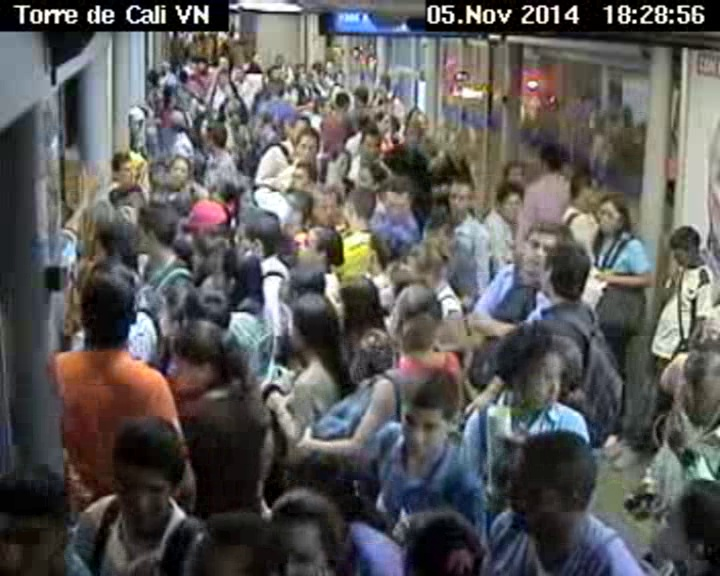person: (503, 428, 603, 550), (105, 407, 186, 536), (259, 480, 362, 576), (3, 452, 78, 576), (389, 367, 474, 469), (645, 465, 720, 576), (175, 506, 291, 576), (485, 326, 573, 416), (389, 506, 491, 576), (162, 318, 238, 398), (78, 270, 139, 365), (385, 279, 446, 370), (516, 221, 576, 289), (539, 234, 592, 303), (332, 273, 388, 338), (272, 262, 330, 322), (92, 213, 149, 272), (180, 285, 240, 341), (285, 293, 334, 361), (135, 199, 179, 263), (294, 222, 346, 275), (179, 195, 239, 237), (239, 208, 282, 266), (406, 235, 452, 288), (375, 173, 416, 224), (668, 220, 706, 274), (339, 180, 375, 235), (568, 165, 605, 214), (532, 139, 574, 181), (596, 193, 631, 242), (492, 176, 524, 228), (447, 174, 476, 227), (108, 144, 140, 190), (500, 158, 536, 192), (288, 159, 319, 194), (284, 112, 313, 149), (166, 151, 196, 186), (296, 124, 324, 161), (203, 117, 232, 150), (360, 125, 381, 164), (157, 82, 182, 108), (312, 93, 333, 118), (334, 88, 353, 111), (353, 86, 371, 103)
